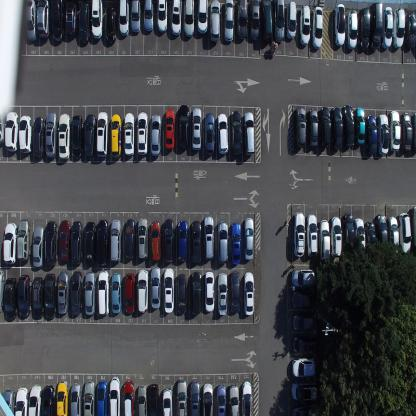car: (43, 272, 57, 320), (17, 274, 32, 318), (70, 219, 84, 266), (22, 0, 38, 41), (83, 113, 96, 162), (58, 112, 71, 161), (370, 2, 383, 51), (4, 110, 19, 152), (375, 213, 389, 258), (45, 110, 58, 158), (45, 219, 58, 267), (3, 221, 17, 265), (96, 111, 109, 158), (297, 4, 311, 47), (70, 270, 83, 316), (333, 2, 346, 48), (16, 219, 30, 261), (290, 380, 318, 401), (32, 115, 45, 160), (189, 271, 202, 316), (110, 112, 122, 160), (96, 218, 108, 266), (98, 269, 110, 317), (235, 0, 249, 41), (57, 270, 70, 314), (4, 278, 17, 322), (398, 211, 411, 255), (318, 219, 331, 263), (291, 290, 318, 311), (230, 110, 242, 157), (18, 114, 32, 154), (36, 0, 50, 40), (90, 0, 104, 40), (51, 0, 64, 43), (136, 110, 148, 156), (84, 270, 96, 316), (293, 211, 305, 257), (244, 110, 256, 155), (123, 112, 135, 157), (58, 219, 70, 264), (32, 224, 44, 269), (78, 0, 90, 45), (331, 105, 343, 150), (216, 113, 229, 154), (365, 114, 378, 155), (71, 115, 83, 159), (110, 218, 122, 262), (84, 220, 95, 268), (105, 0, 117, 44), (261, 0, 273, 44), (311, 6, 323, 50), (342, 103, 354, 147), (319, 105, 331, 149), (387, 216, 399, 260), (306, 213, 318, 257), (291, 357, 316, 378), (108, 376, 121, 416), (290, 268, 316, 288), (169, 0, 183, 37), (273, 0, 285, 43), (377, 113, 389, 156), (353, 217, 365, 260), (291, 336, 318, 355), (203, 214, 214, 260), (190, 219, 201, 265), (137, 268, 148, 314), (343, 212, 354, 258), (124, 272, 136, 314), (293, 313, 317, 334), (191, 106, 202, 151), (178, 104, 189, 149), (163, 218, 174, 263), (56, 378, 69, 416), (249, 0, 261, 41), (346, 9, 358, 50), (400, 112, 412, 153), (164, 107, 175, 151), (243, 216, 254, 260), (217, 220, 228, 264), (137, 216, 148, 260), (243, 271, 254, 315), (217, 272, 228, 316), (150, 266, 161, 310), (111, 271, 122, 315), (32, 275, 43, 319), (295, 105, 306, 149), (365, 220, 376, 264), (65, 0, 78, 37), (164, 266, 174, 314), (41, 384, 56, 416), (204, 112, 215, 155), (150, 113, 161, 156), (210, 0, 221, 43), (359, 7, 370, 50), (331, 215, 342, 258), (96, 379, 109, 415), (83, 380, 96, 416), (177, 220, 188, 262), (150, 220, 161, 262), (204, 270, 215, 312), (223, 0, 234, 42), (389, 110, 400, 152), (354, 106, 366, 144), (124, 218, 135, 259), (394, 7, 405, 48), (28, 383, 42, 415), (118, 0, 130, 37), (231, 221, 241, 265), (230, 270, 240, 314), (286, 1, 297, 41), (14, 386, 29, 415), (176, 272, 186, 315), (383, 5, 393, 48), (122, 380, 134, 415), (308, 108, 318, 150), (405, 10, 416, 48), (196, 0, 208, 34), (176, 378, 187, 415), (189, 379, 200, 415), (70, 382, 82, 415), (130, 0, 142, 33), (156, 0, 168, 33), (184, 0, 194, 38), (1, 388, 15, 415), (143, 0, 154, 34), (202, 382, 213, 415), (242, 380, 252, 416), (148, 383, 159, 415), (137, 383, 148, 415), (229, 383, 239, 415), (216, 383, 226, 415), (410, 205, 416, 256), (291, 405, 320, 415), (162, 388, 172, 415), (0, 102, 5, 142), (0, 268, 4, 314), (412, 111, 416, 151)
